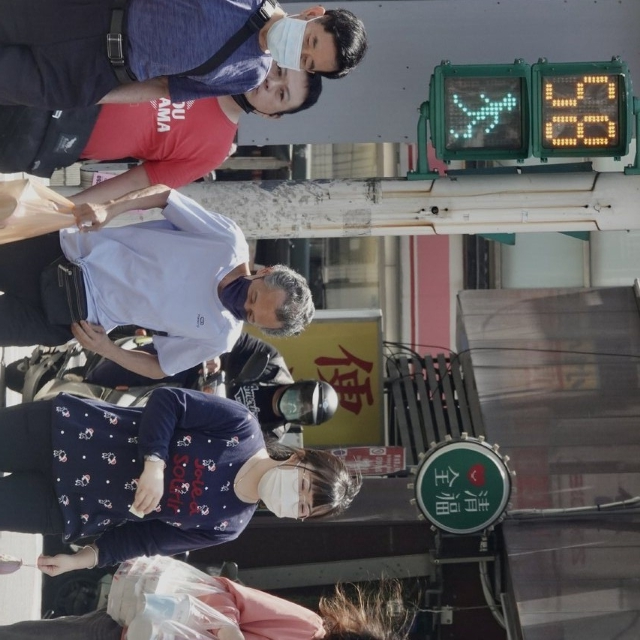green_light: (433, 63, 628, 153)
